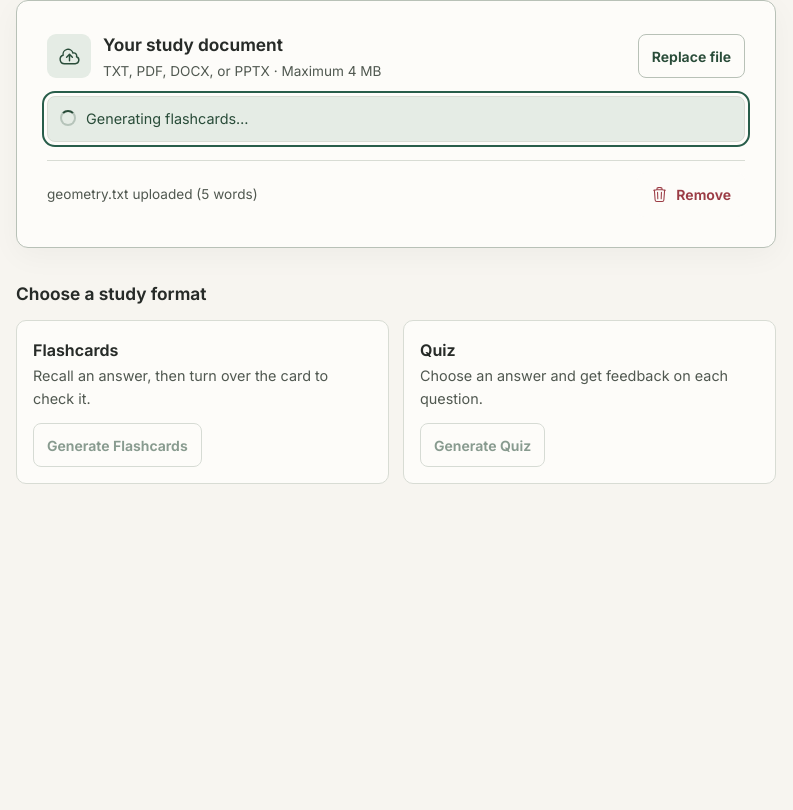
Test: announces generation and blocks duplicate submissions for both study types
This screenshot has width=793, height=810.
Earlier steps of the test are not shown.
Later steps or results of the test are not shown.
Click the button "Generate Flashcards" at (117, 445), box [33,423,202,467]
Click the button "Generate Quiz" at (483, 445), box [420,423,545,467]
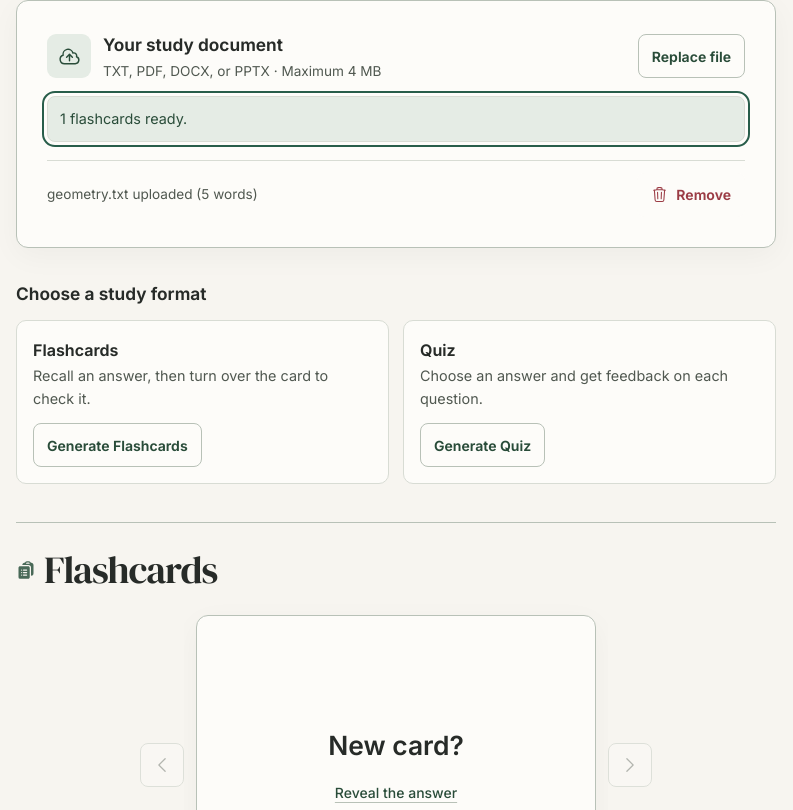
Check: the button "Generate Flashcards" is enabled, box [33,423,202,467]
Check: the button "Generate Quiz" is enabled, box [420,423,545,467]
